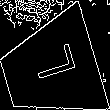L_W: (24, 47, 77, 91)
